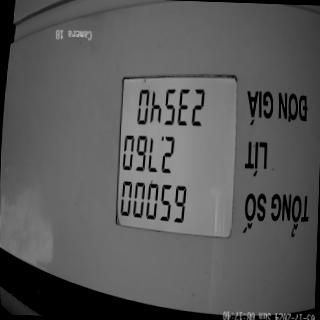screen: (112, 70, 242, 246)
